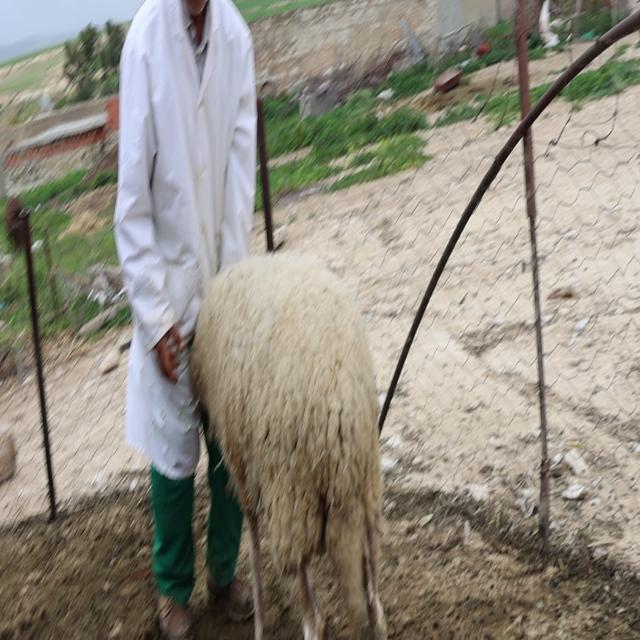Score_3: (190, 254, 387, 639)
